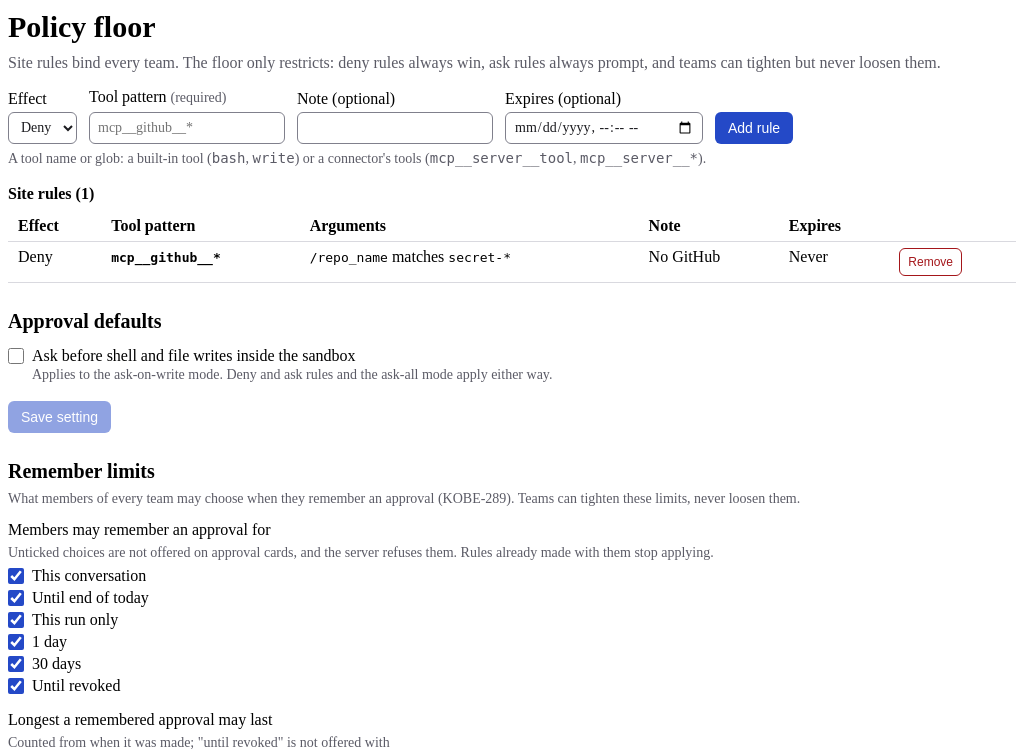
Test: Site policy floor › adds a rule with the wire body and removes one
Select "Ask" in the dropdown labelled "Effect": (42, 128) [8,112,77,144]
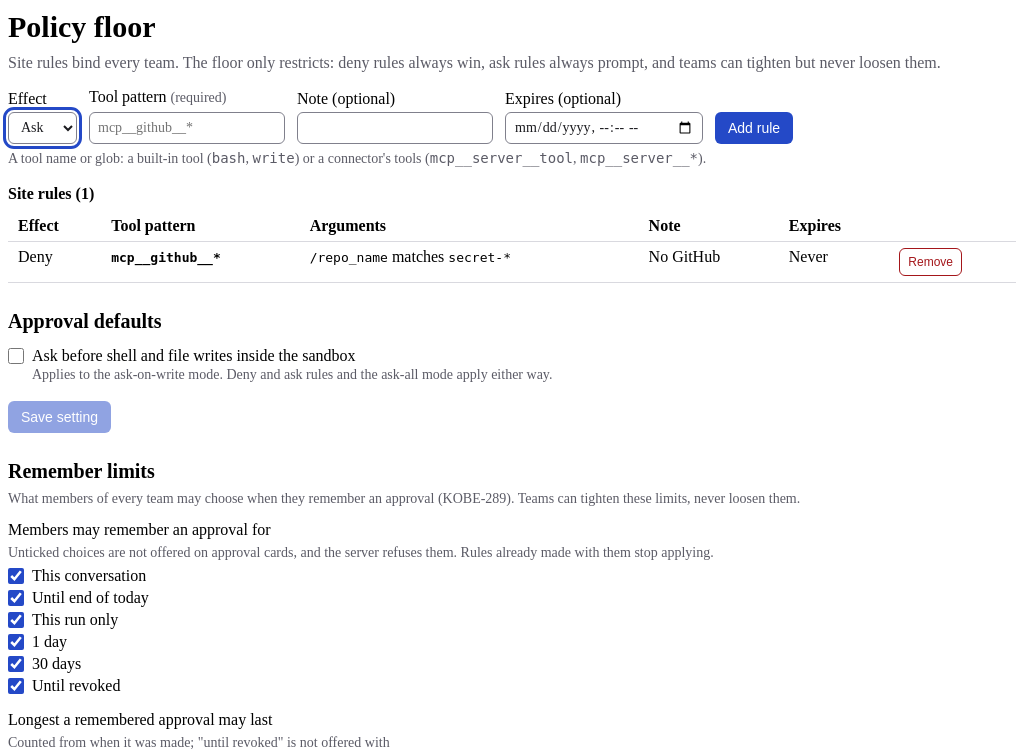
In the field labelled "Tool pattern(required)": (187, 128) [89,112,285,144], type "bash"
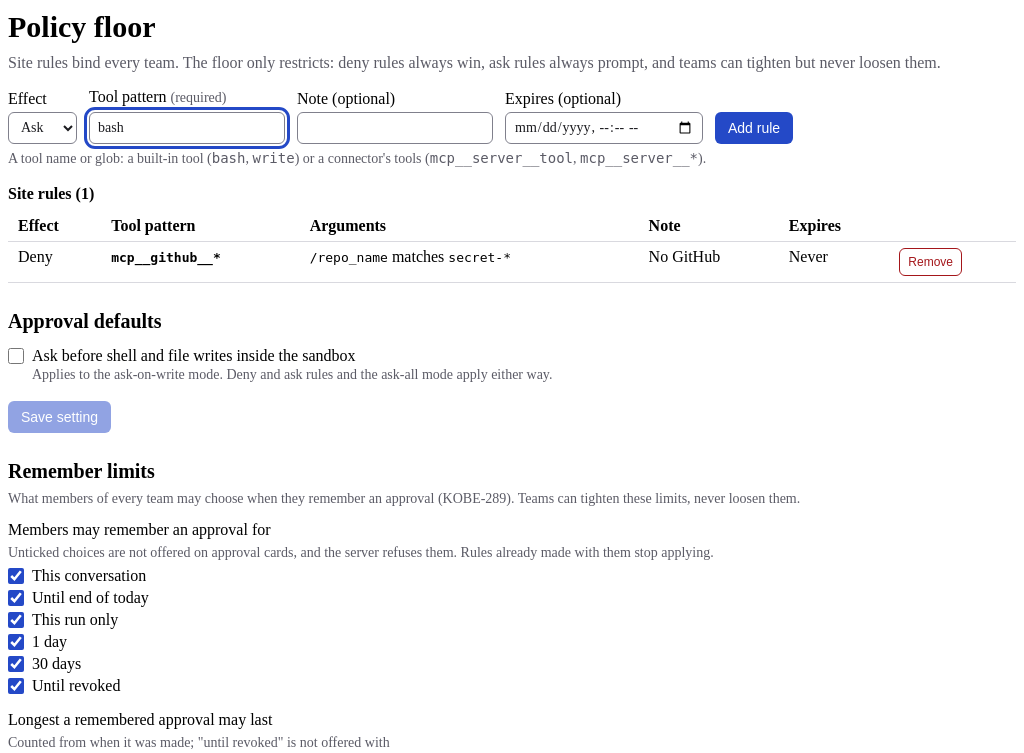
In the field labelled "Note (optional)": (395, 128) [297,112,493,144], type "Shell asks"
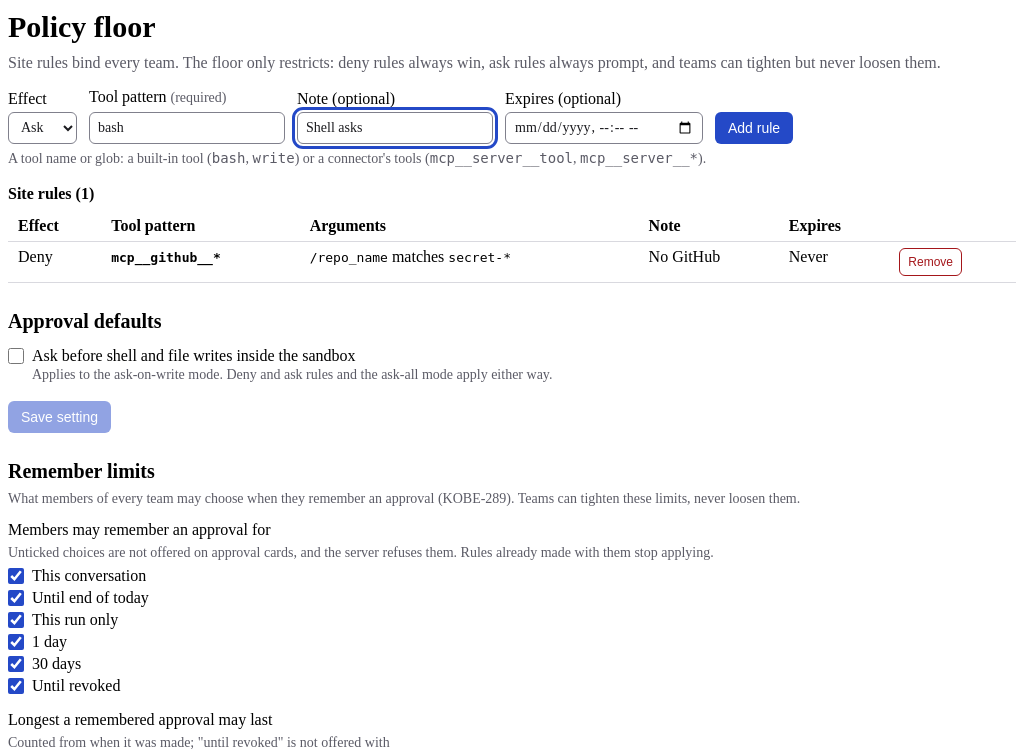
Click the button "Add rule": (754, 128) [715,112,793,144]
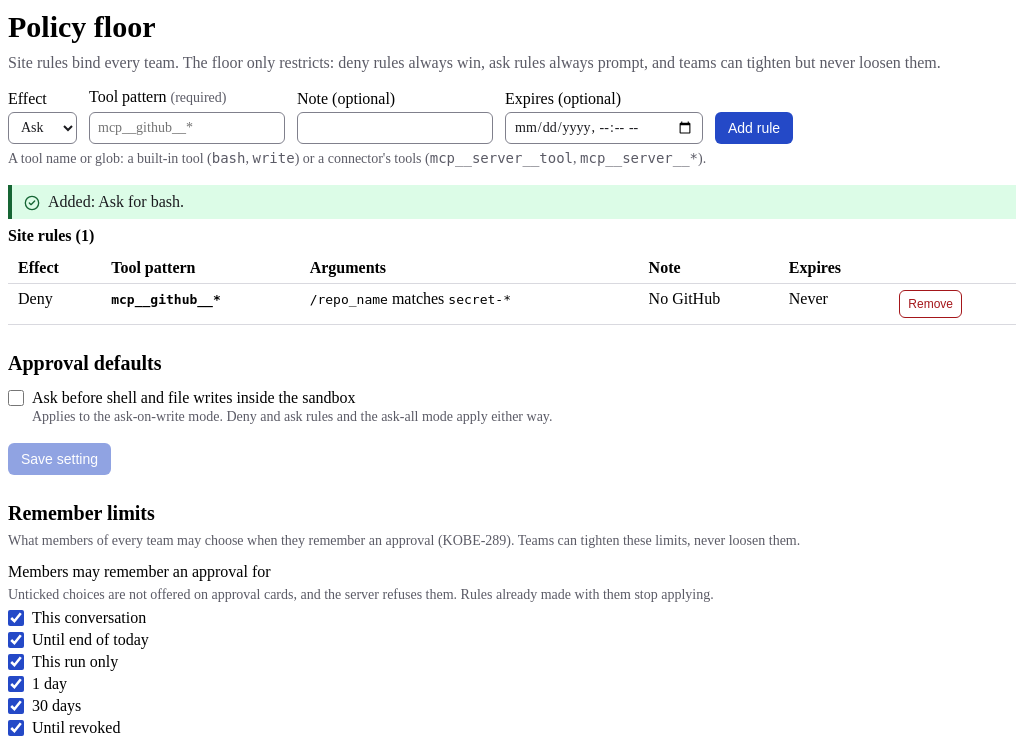
Expected: the text "Added: Ask for bash." is shown, [48,192,184,210]
Click the button "Remove": (931, 304) [899,290,962,318]
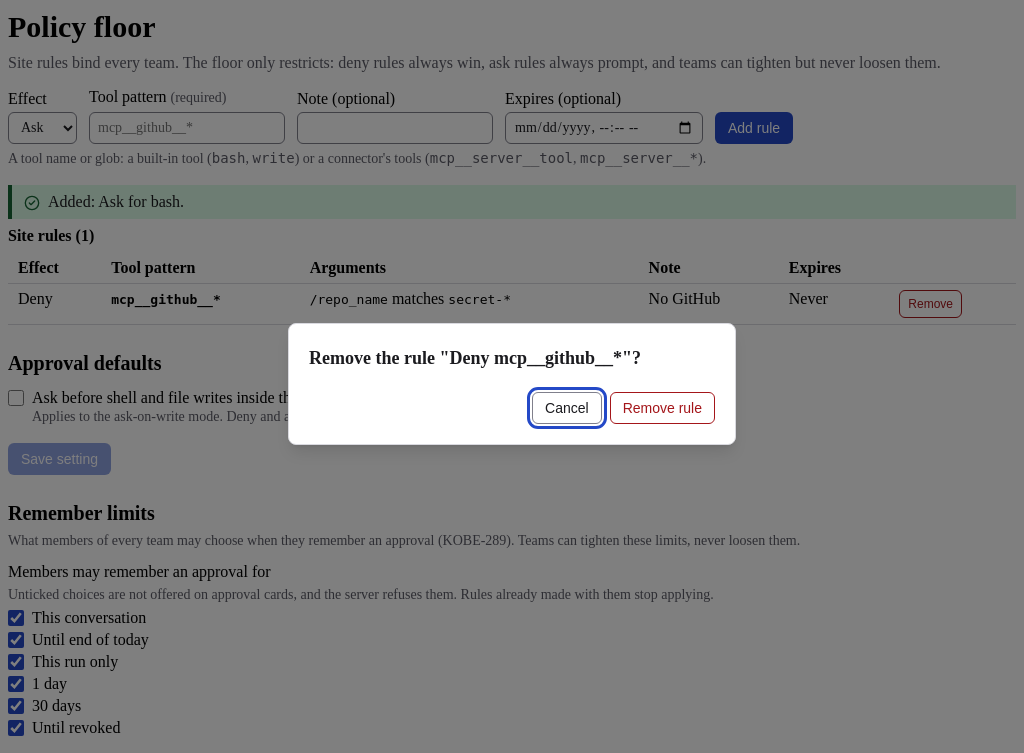
Click the button "Remove rule": (662, 408) [610,392,715,424]
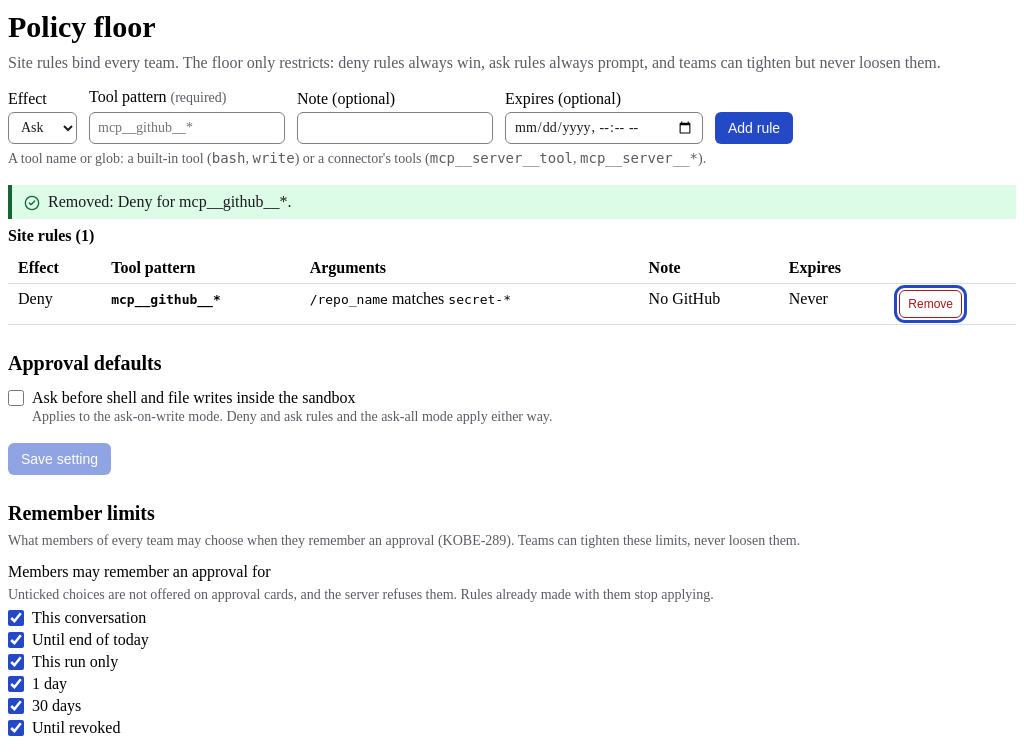
Expected: the text "Removed: Deny for mcp__github__*." is shown, [48,192,292,210]
